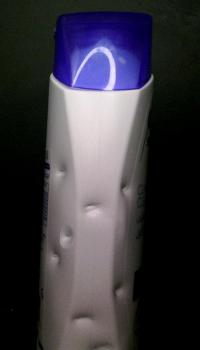dent_unacceptable: (45, 221, 79, 277), (62, 309, 102, 331), (74, 196, 109, 220), (51, 160, 75, 186), (108, 280, 134, 302), (115, 178, 137, 201), (85, 336, 121, 350)
